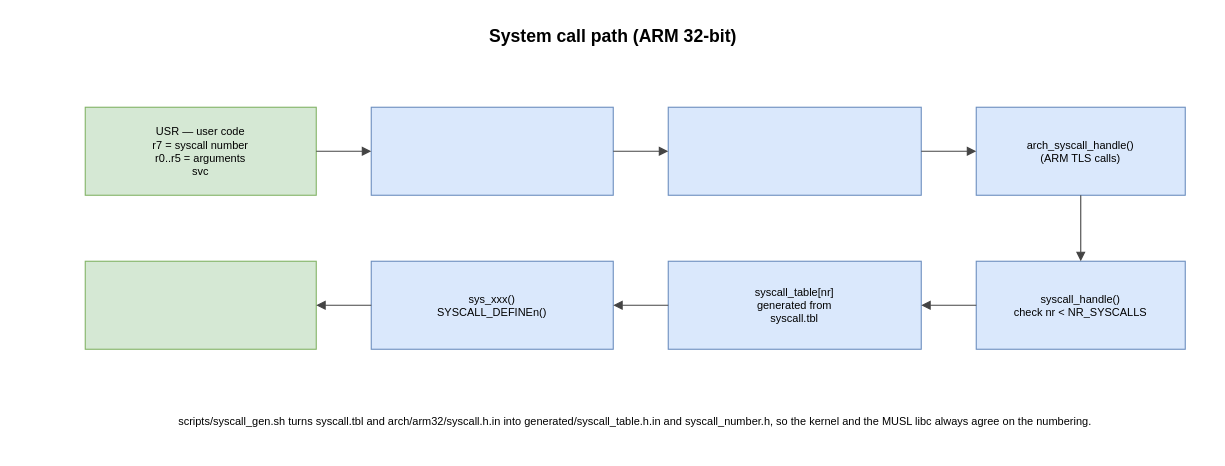
Some shapes in this 1225 by 466 pixel diagram are drawn without their labels. Each missing label, with the box of its shape:
return value → saved r0 restore the frame → back to USR: (84, 260, 316, 349)
syscall_interrupt save r0-r12, SPSR, banked sp/lr of USR: (667, 106, 921, 195)
vector table (__vectors) “software interrupt” slot → syscall_interrupt: (370, 106, 613, 195)
